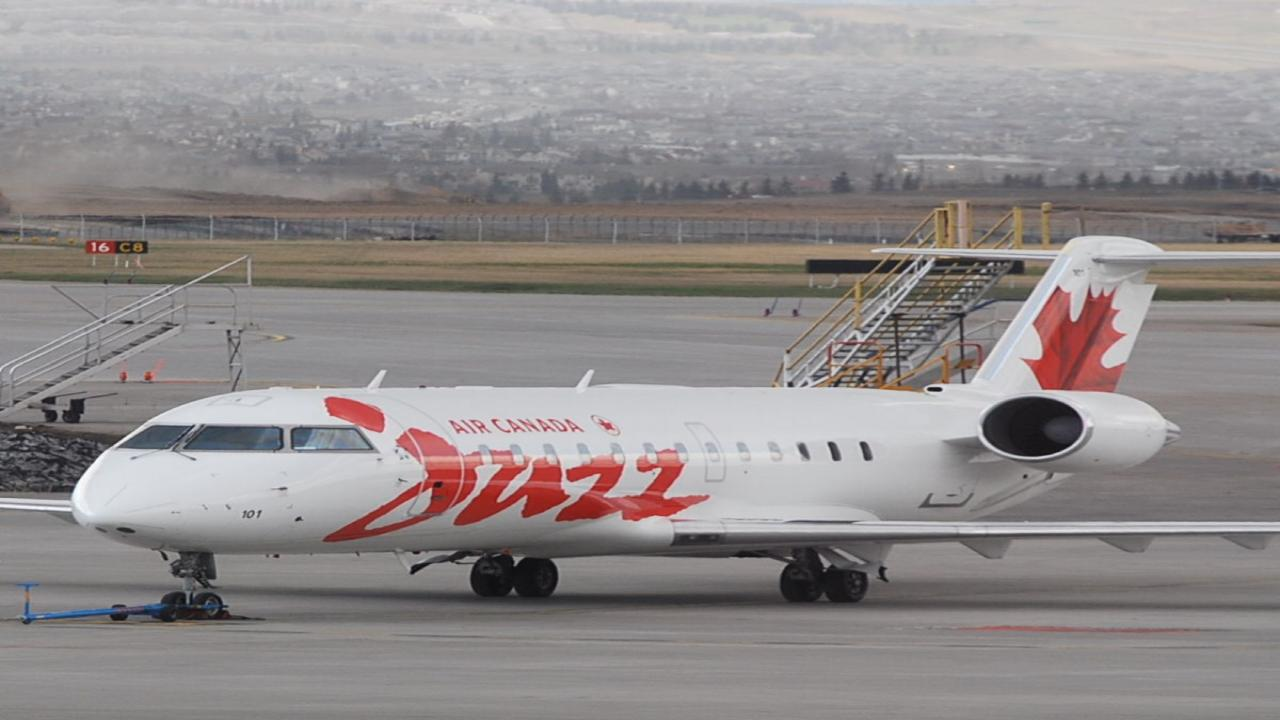Airplane: (0, 224, 1280, 636)
